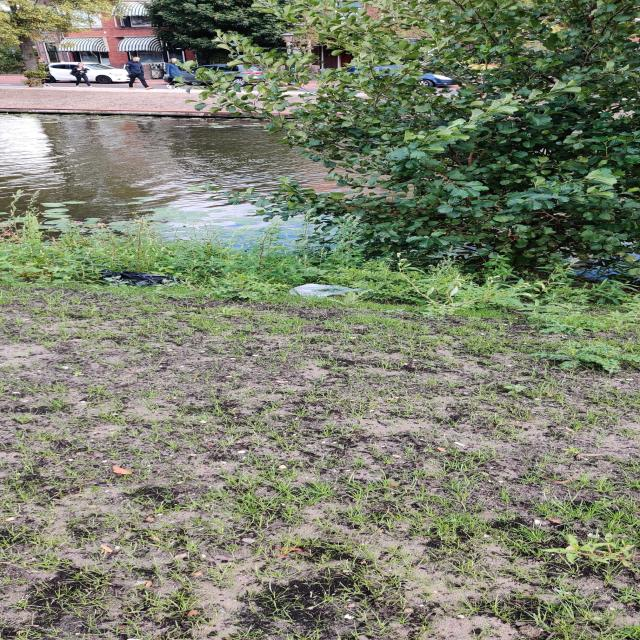litter: (284, 283, 359, 298), (104, 269, 165, 286)
